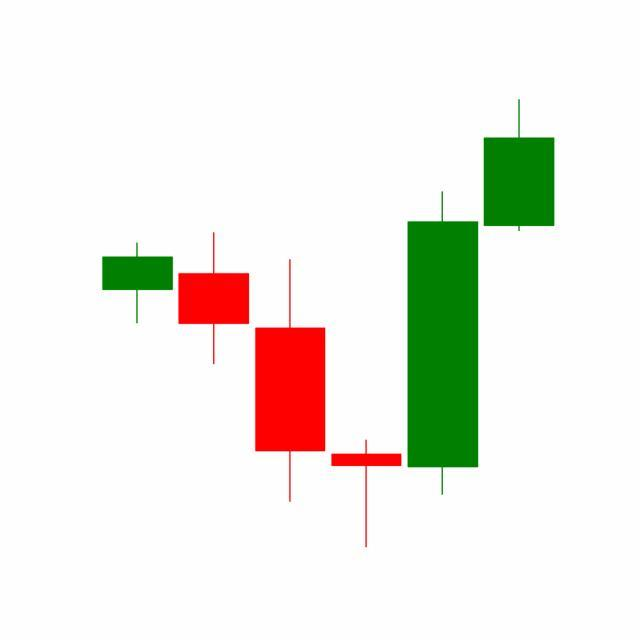Morning Doji Star: (252, 187, 482, 548)
